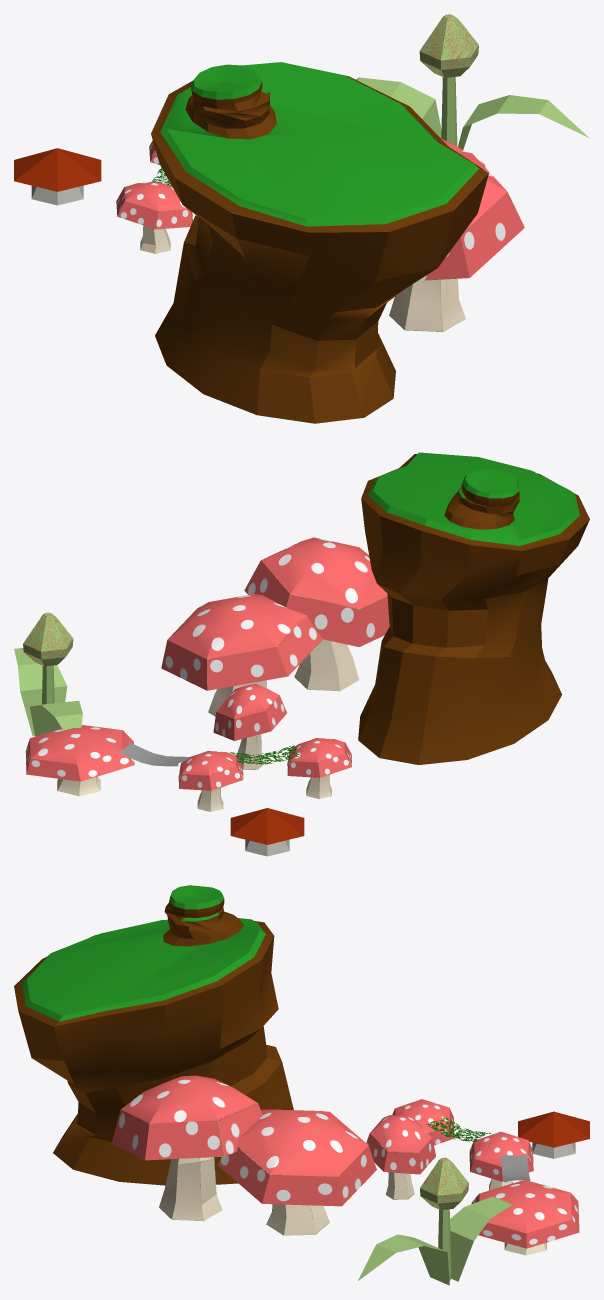
File: stageMash1.FBX
3 renders of one model, top to bottom at view 1: azimuth 30°, elevation 25°; view 2: azimuth 150°, elevation 25°; view 3: azimuth 270°, elevation 25°, orthographic. The views are drawn at different scales.
Parts seen in each view (by area): view 1: Bluff_Grass_01, Mushroom_Red_05 (×2), Plant_Flower_Red_01, Mushroom_Tall_01; view 2: Bluff_Grass_01, Mushroom_Red_05 (×6), Plant_Flower_Red_01, Mushroom_Tall_01, Plane001 (×2); view 3: Bluff_Grass_01, Mushroom_Red_05 (×6), Plant_Flower_Red_01, Mushroom_Tall_01, Plane001 (×2).
Boxes of the visible parts, x1,y1,x2,y2 form: Bluff_Grass_01: (151, 62, 488, 423); Mushroom_Red_05 (×2): (116, 150, 524, 331); Plant_Flower_Red_01: (356, 14, 588, 149); Mushroom_Tall_01: (14, 148, 101, 205); Bluff_Grass_01: (358, 452, 589, 764); Mushroom_Red_05 (×6): (25, 537, 389, 811); Plant_Flower_Red_01: (14, 612, 82, 736); Mushroom_Tall_01: (230, 808, 304, 856); Plane001 (×2): (117, 742, 299, 766); Bluff_Grass_01: (14, 885, 293, 1185); Mushroom_Red_05 (×6): (111, 1075, 579, 1255); Plant_Flower_Red_01: (358, 1157, 517, 1285); Mushroom_Tall_01: (518, 1111, 589, 1158); Plane001 (×2): (426, 1117, 530, 1182).
Bounding box in the file's own units: 2723 × 3083 × 1415.
Materials: 10 (3 with a texture image).
